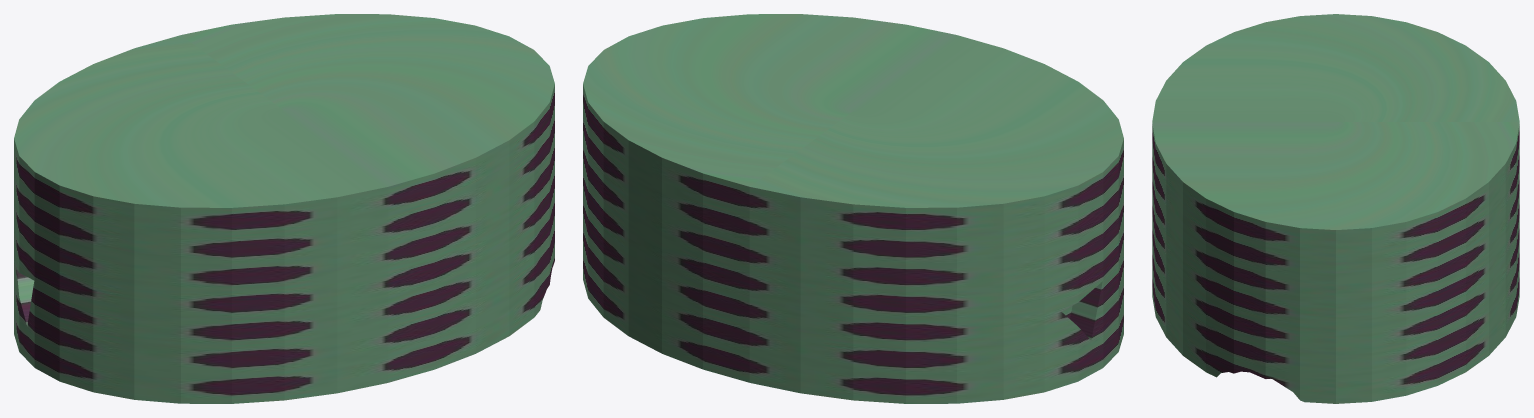
3 views of the same model, side by side, from view 1: azimuth 30°, elevation 25°; view 2: azimuth 150°, elevation 25°; view 3: azimuth 270°, elevation 25° (orthographic). The views are drawn at different scales.
Visible parts, largest first — view 1: geometry_0; view 2: geometry_0; view 3: geometry_0.
Boxes of the visible parts, box(x1,y1,x2,y2) form: geometry_0: box(14, 14, 554, 403); geometry_0: box(583, 14, 1123, 403); geometry_0: box(1152, 14, 1519, 403).
Size of the model in its own units: 3.51 by 1.32 by 2.52.
Materials: 1 (1 with a texture image).
